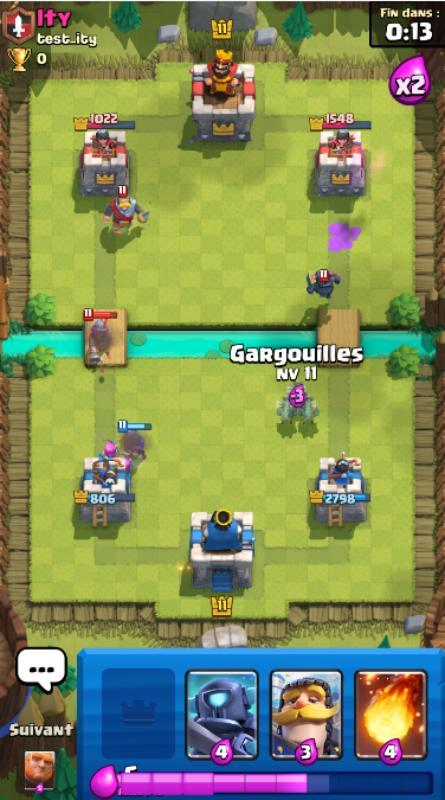archere: (115, 452, 136, 481), (98, 435, 121, 457)
chevalier: (103, 184, 150, 235)
gargouille: (275, 395, 299, 426), (297, 397, 321, 425), (285, 380, 308, 407)
mini_PEKKA: (304, 267, 343, 301)
mousquetaire: (82, 307, 118, 365), (116, 419, 152, 462)
